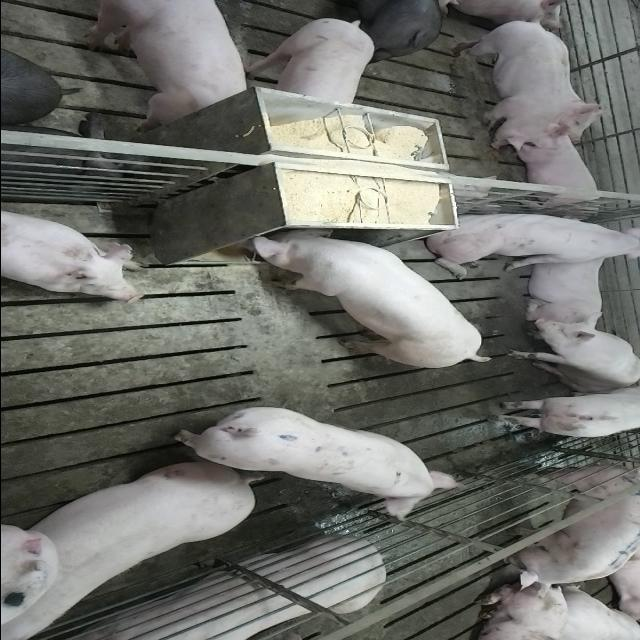Feeding: (245, 221, 492, 366)
Sitting: (418, 209, 636, 271), (501, 319, 638, 392)
Standing: (5, 459, 267, 635), (163, 406, 465, 520), (75, 2, 252, 128), (505, 462, 640, 592), (450, 15, 563, 154), (240, 15, 374, 106), (482, 386, 638, 441), (315, 0, 453, 55)
Sternal_lying: (68, 539, 384, 640), (0, 206, 147, 305), (505, 131, 605, 213), (520, 248, 606, 330), (536, 77, 614, 142)
